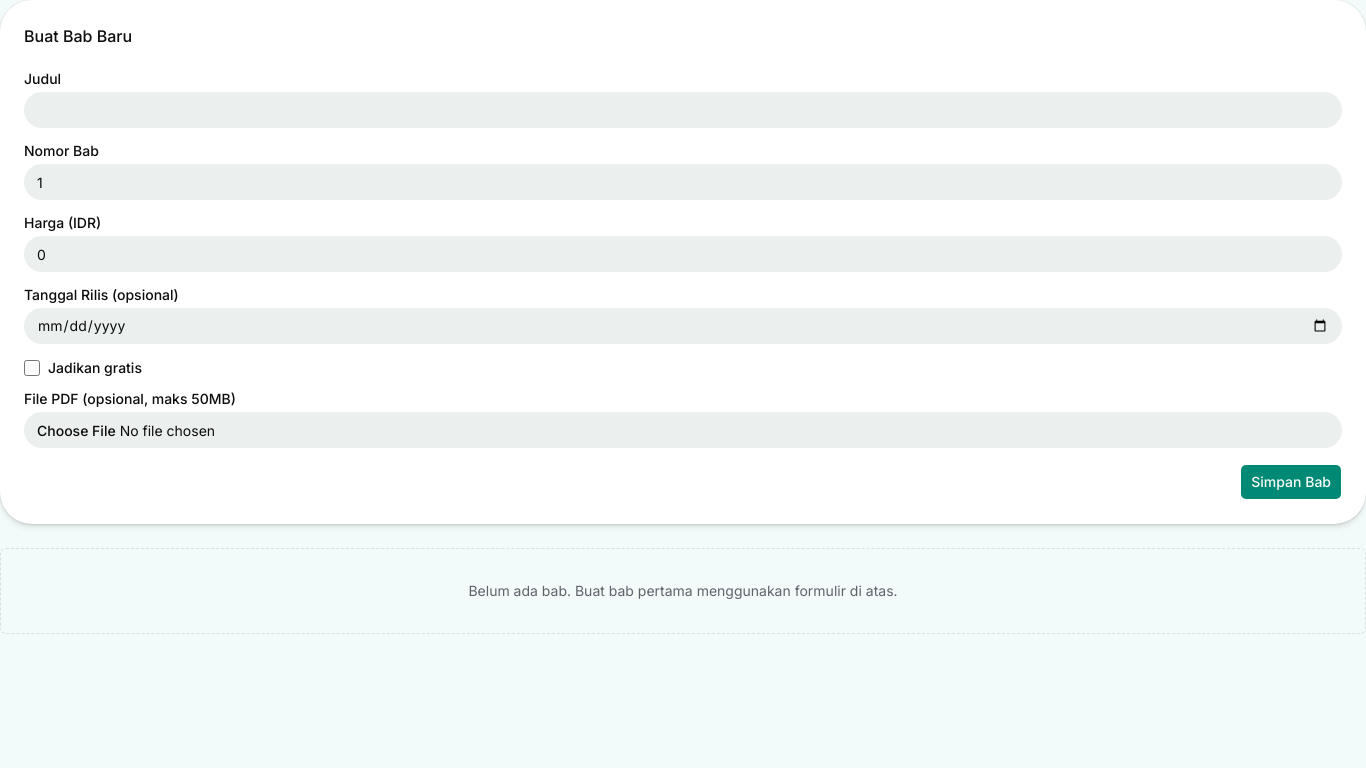
Test: ChapterForm › disables and zeroes price_idr when is_free toggle is enabled
expect the number field labelled "Harga (IDR)" is enabled: met, box top-left (24, 236), bottom-right (1342, 272)
Step 1. Click the checkbox labelled "Jadikan gratis" → point(32, 368), box top-left (24, 360), bottom-right (40, 376)
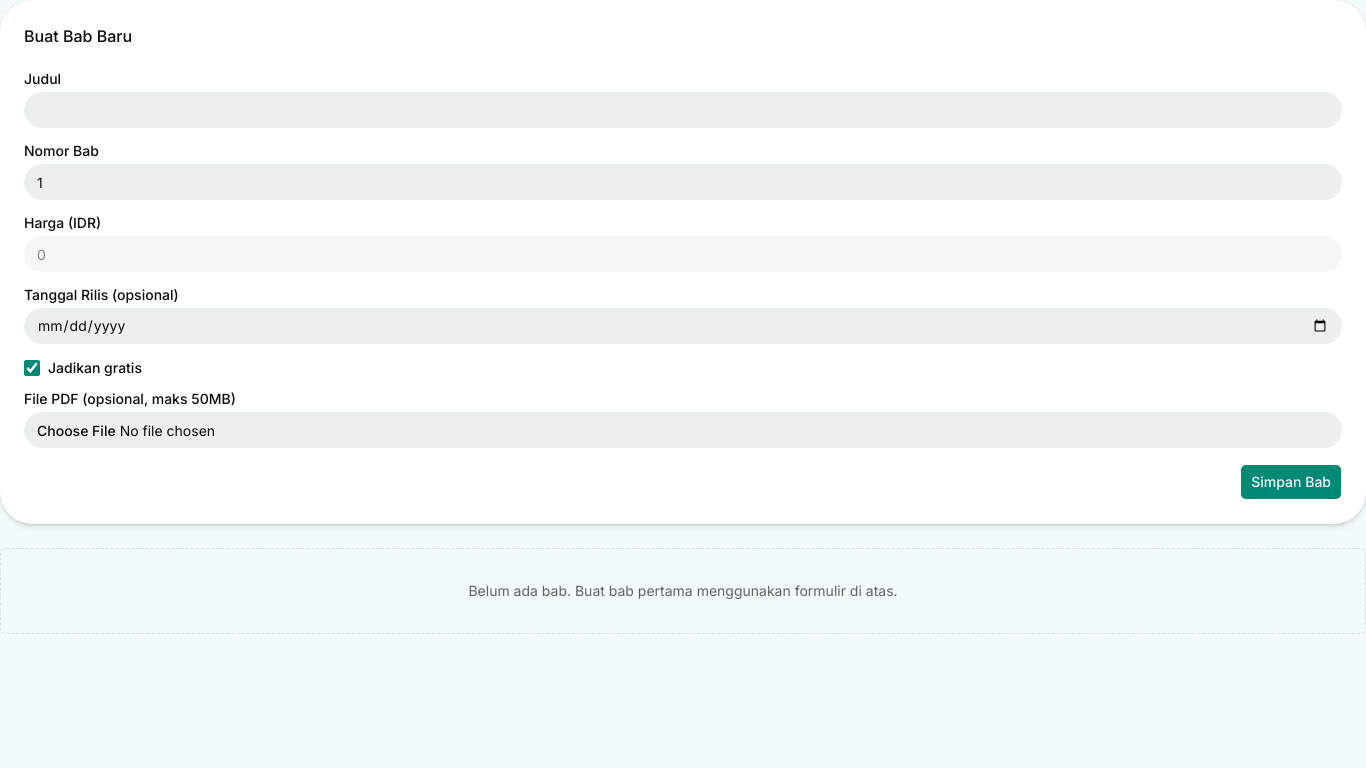
expect the number field labelled "Harga (IDR)" holds "0": met, box top-left (24, 236), bottom-right (1342, 272)
expect the number field labelled "Harga (IDR)" is disabled: met, box top-left (24, 236), bottom-right (1342, 272)
